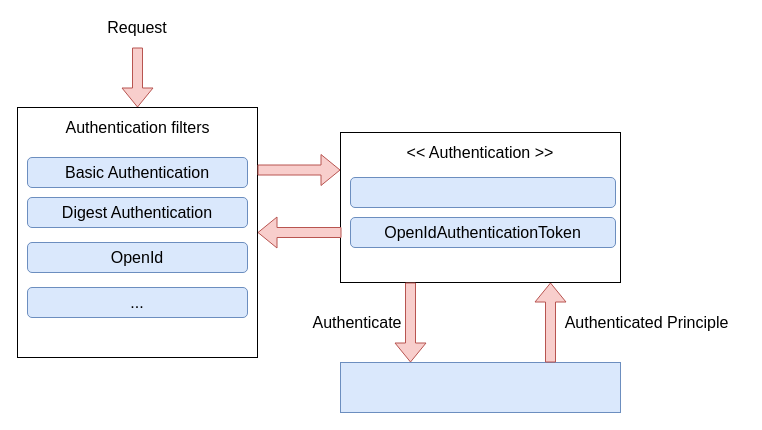
This 762x430 diagram has some shape labels left out. Here are the shapes that lost their labels. From the top down, the centre of each, then its label:
(483,192): UserPasswordAuthenticationToken
(480,387): AuthenticationManager
